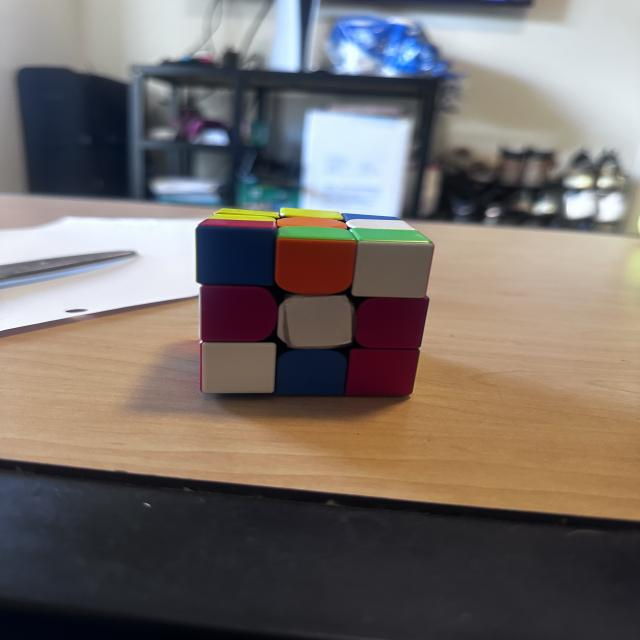sticker: (347, 225, 436, 300), (194, 210, 280, 287), (274, 227, 358, 296), (198, 284, 279, 343), (197, 339, 280, 396), (276, 292, 356, 351), (352, 294, 431, 351), (344, 347, 424, 398), (274, 348, 349, 398), (275, 216, 348, 230), (342, 218, 418, 230), (198, 218, 274, 228)
